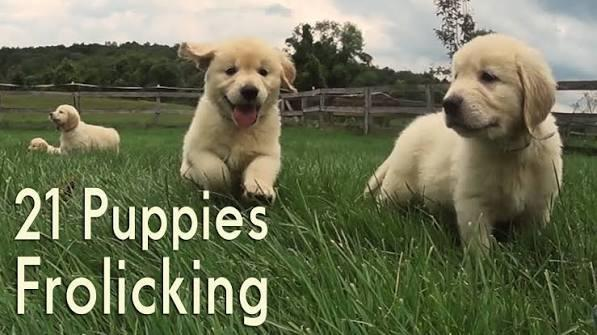puppy-dog: (355, 30, 565, 275), (176, 35, 298, 213), (50, 104, 121, 152), (29, 137, 59, 157)
